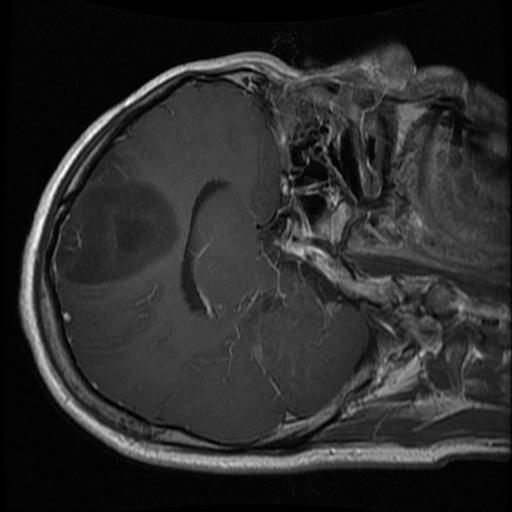glioma: (57, 152, 178, 283)
